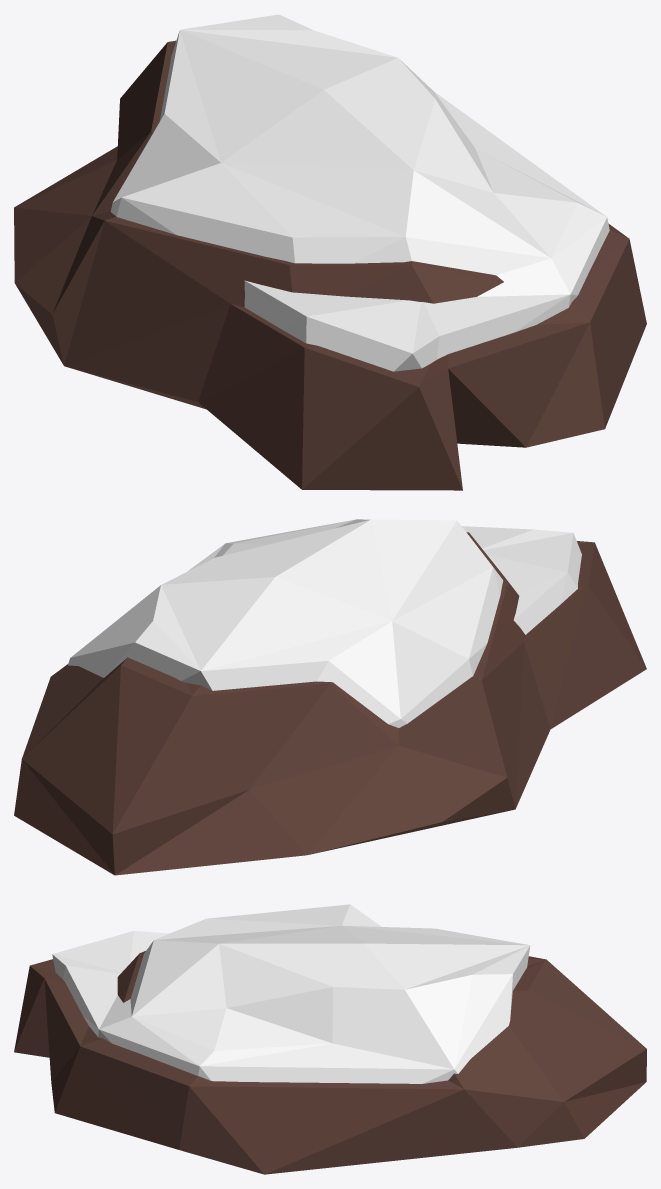
The model's file is snow_rock_003.fbx.
3 views of the same model, one above another, from view 1: azimuth 30°, elevation 25°; view 2: azimuth 150°, elevation 25°; view 3: azimuth 270°, elevation 25° (orthographic). The views are drawn at different scales.
Parts seen in each view (by area): view 1: snow_rock_003; view 2: snow_rock_003; view 3: snow_rock_003.
Part boxes in pixels (x1=…): snow_rock_003: x1=14, y1=14, x2=646, y2=490; snow_rock_003: x1=14, y1=519, x2=646, y2=875; snow_rock_003: x1=14, y1=904, x2=646, y2=1174.
Bounding box in the file's own units: 491 × 735 × 192.
